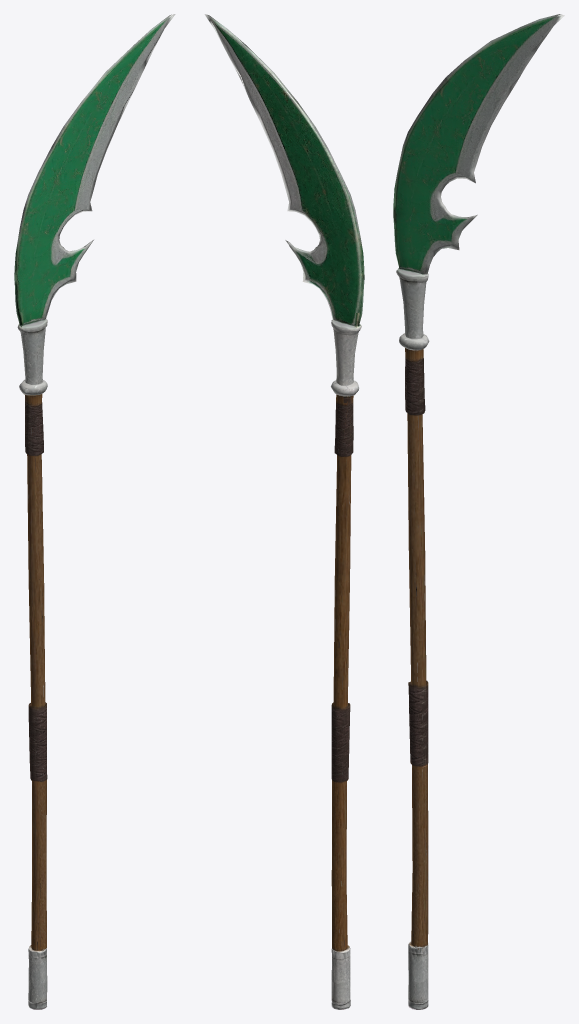
The model's file is mm8_m584_polearm.glb.
The picture shows the model from 3 angles, left to right: view 1: azimuth 30°, elevation 25°; view 2: azimuth 150°, elevation 25°; view 3: azimuth 330°, elevation 25°; orthographic projection. The views are drawn at different scales.
Visible parts, largest first — view 1: Polearm; view 2: Polearm; view 3: Polearm.
Boxes of the visible parts, bbox=[...] form: Polearm: bbox=[14, 14, 175, 1009]; Polearm: bbox=[204, 14, 364, 1009]; Polearm: bbox=[393, 14, 564, 1009].
Bounding box in the file's own units: 0.2369 × 1.35 × 0.0326.
1 material, 1 textured.
